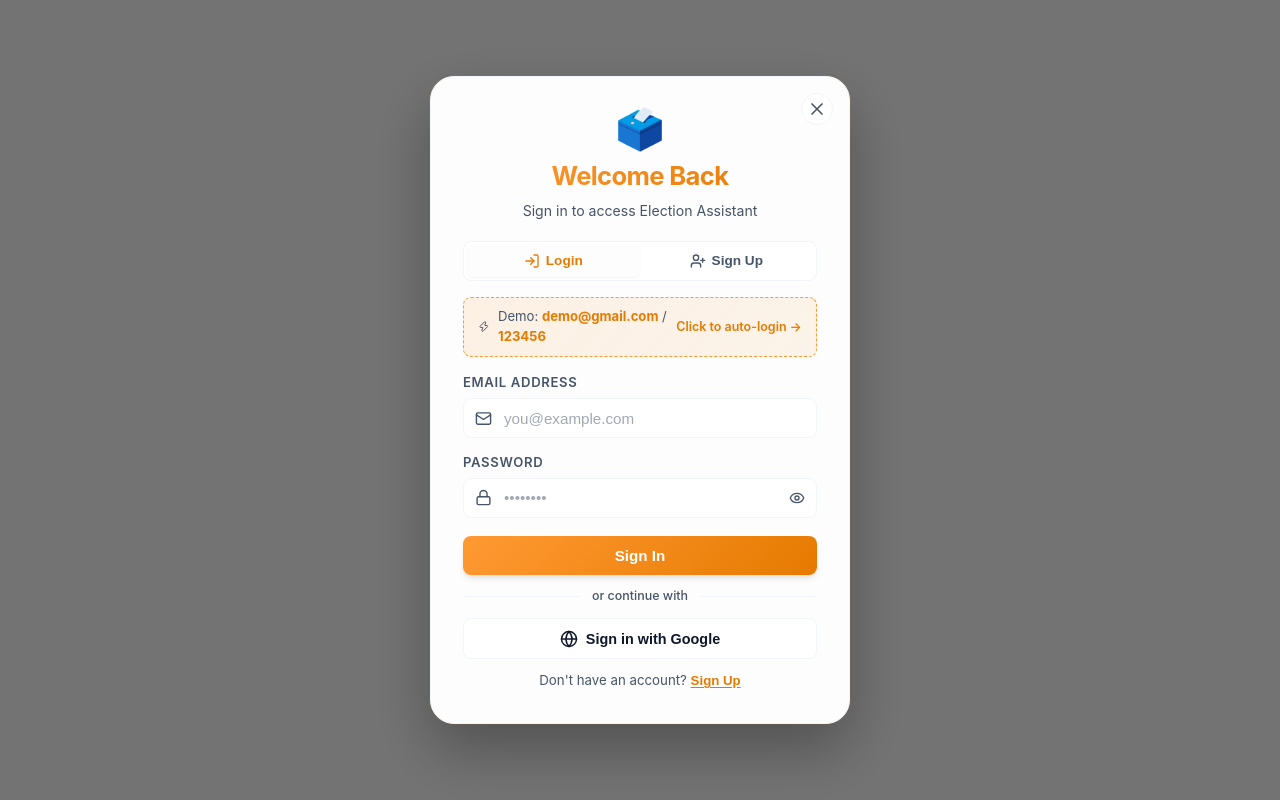
Test case: 🔒 Login Form Validation › shows Firebase error for invalid credentials
Type "wrong@test.com" into the field labelled "Email Address". click: point(640, 418)
box: [463,398,817,438]
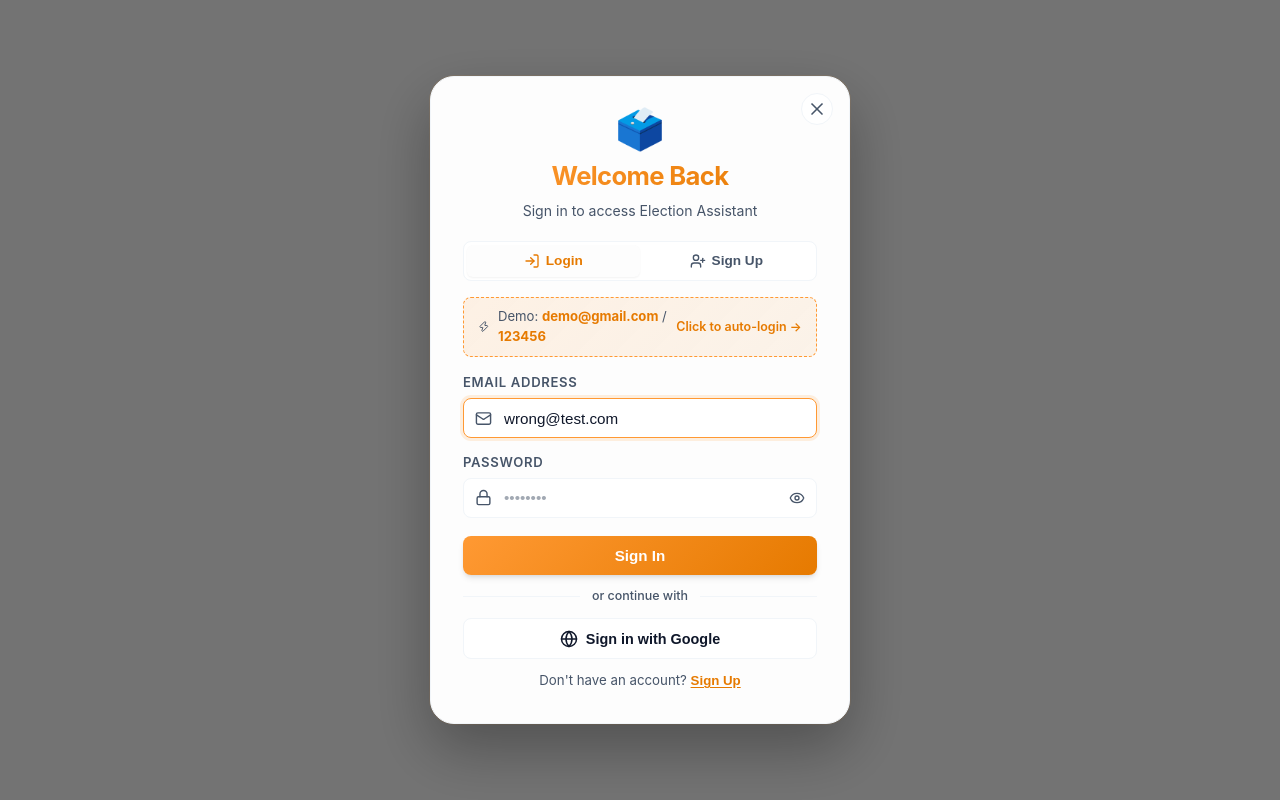
Type "wrongpass" into the password field with id "auth-password". click: point(640, 498)
box: [463,478,817,518]
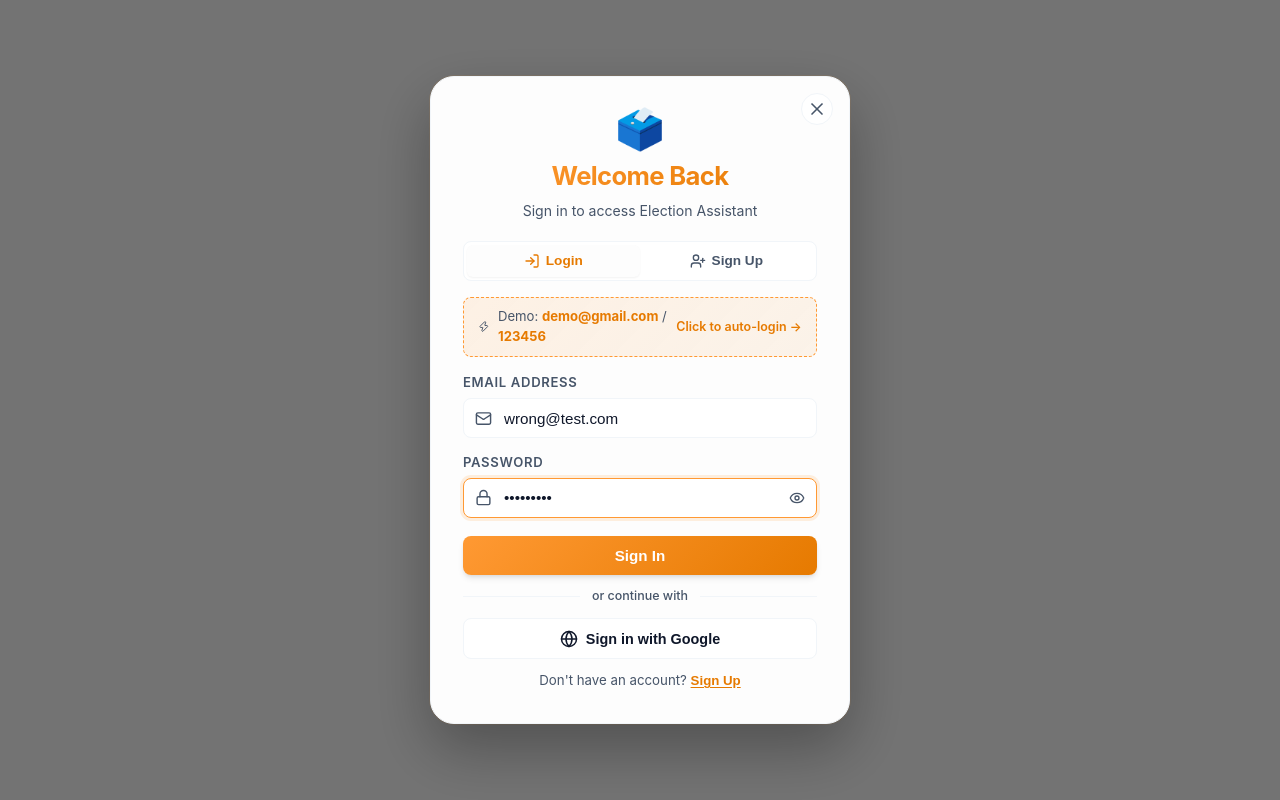
Click the button with class "auth-submit-btn". click: point(640, 556)
box: [463,536,817,576]
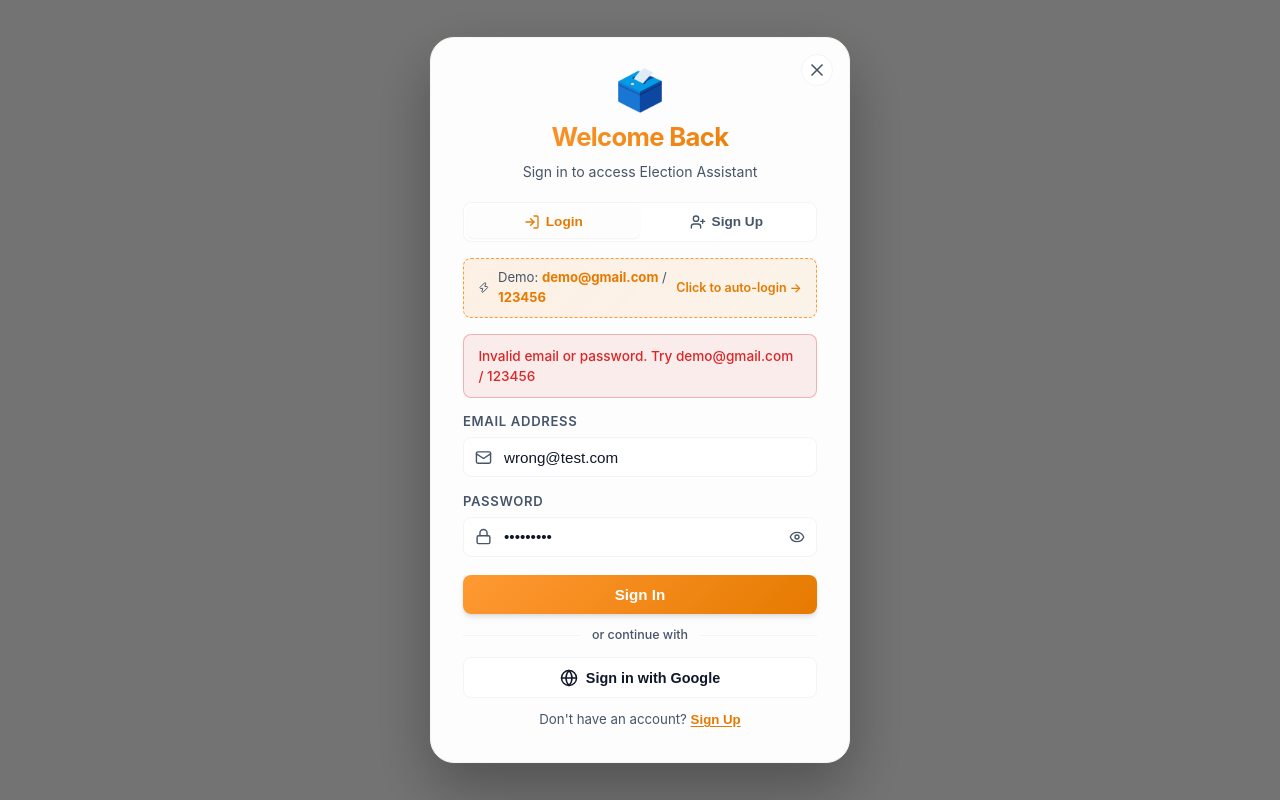
expect the text "Invalid email or password. Try demo@gmail.com / 123456" is shown: met, box [463,334,817,398]
